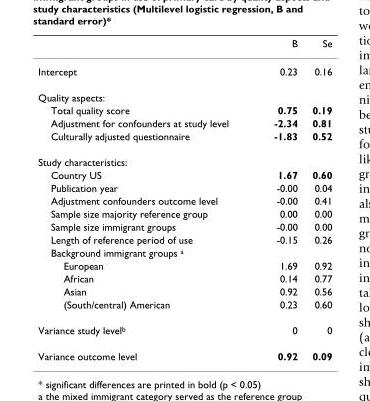table: (37, 36, 331, 361)
table column: (37, 36, 250, 361), (250, 36, 304, 361), (304, 36, 331, 361)
table column header: (37, 36, 331, 56)
table projected row header: (37, 83, 331, 103), (37, 148, 331, 167), (37, 245, 331, 258)
table row: (37, 56, 331, 83), (37, 316, 331, 342), (37, 36, 331, 56), (37, 83, 331, 103), (37, 129, 331, 148), (37, 148, 331, 167), (37, 297, 331, 316), (37, 342, 331, 361), (37, 103, 331, 116), (37, 116, 331, 129), (37, 167, 331, 180), (37, 180, 331, 193), (37, 193, 331, 206), (37, 206, 331, 219), (37, 219, 331, 232), (37, 232, 331, 245), (37, 245, 331, 258), (37, 258, 331, 271), (37, 271, 331, 284), (37, 284, 331, 297)
